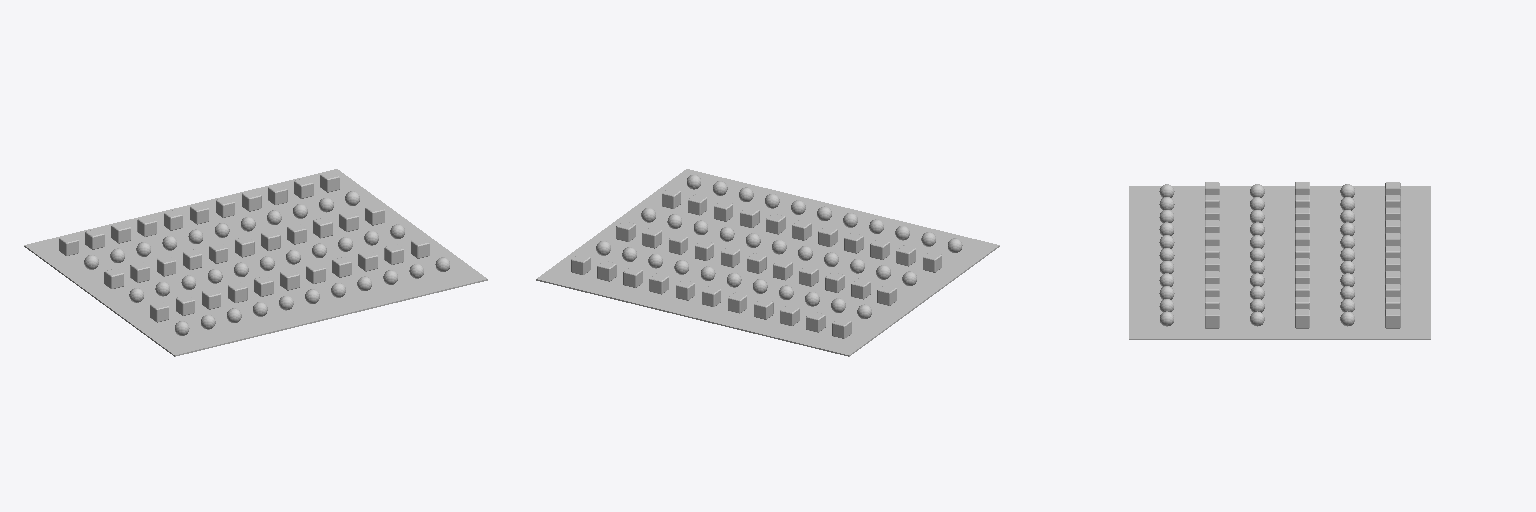
Rendered from show_model.obj.
3 views of the same model, side by side, from view 1: azimuth 30°, elevation 25°; view 2: azimuth 150°, elevation 25°; view 3: azimuth 270°, elevation 25° (orthographic).
Parts seen in each view (by area): view 1: Floor_Cube.001; view 2: Floor_Cube.001; view 3: Floor_Cube.001.
Part boxes in pixels (bbox=[...]): Floor_Cube.001: bbox=[24, 169, 487, 356]; Floor_Cube.001: bbox=[536, 169, 999, 356]; Floor_Cube.001: bbox=[1129, 186, 1430, 339].
Bounding box in the file's own units: 48 × 2.2 × 40.